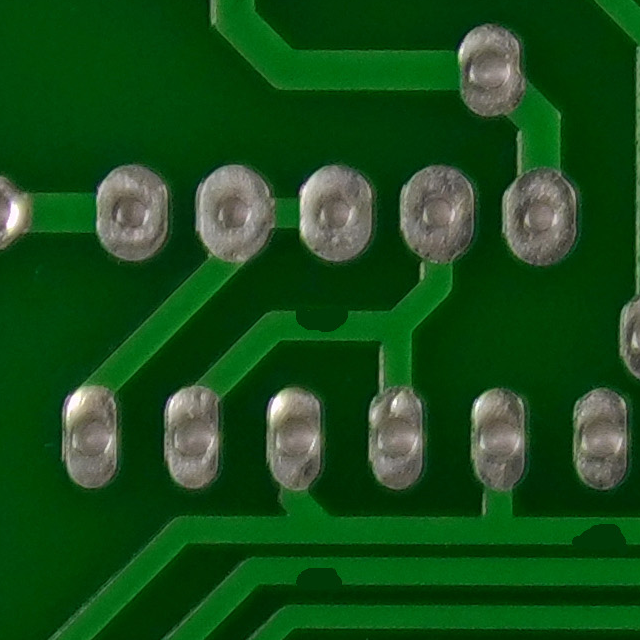mouse_bite: (276, 289, 364, 351), (548, 504, 640, 561), (276, 550, 359, 604)
